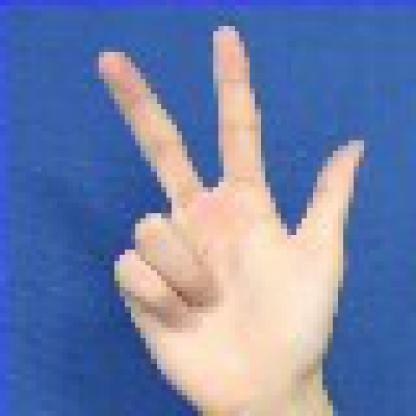eight: (57, 10, 411, 411)
